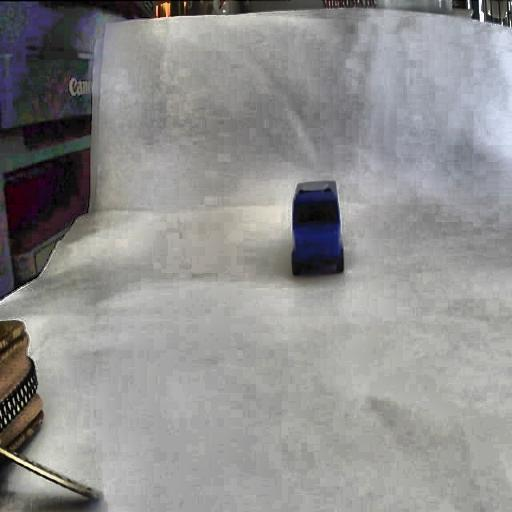police car: (288, 180, 345, 281)
